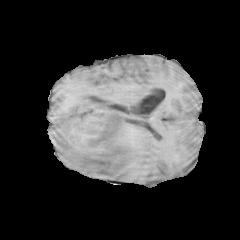glioma: (52, 96, 152, 174)
